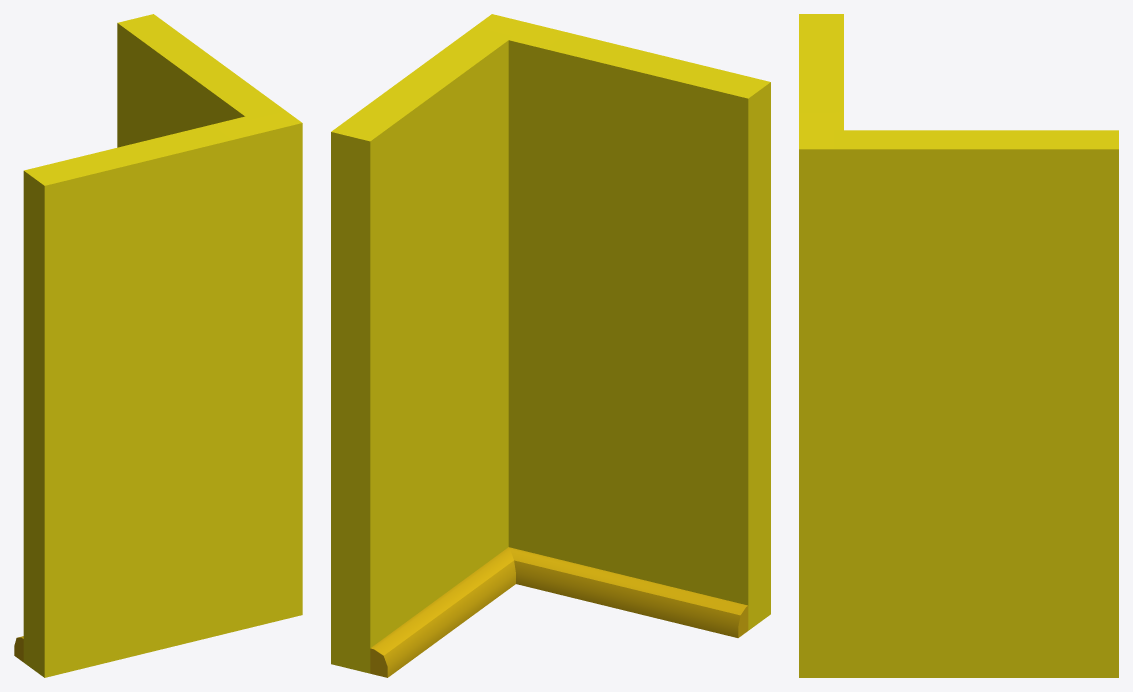
File: Y_WallCorner002.fbx
3 renders of one model, left to right at view 1: azimuth 30°, elevation 25°; view 2: azimuth 150°, elevation 25°; view 3: azimuth 270°, elevation 25°, orthographic. The views are drawn at different scales.
Parts seen in each view (by area): view 1: WallCorner2.002; view 2: WallCorner2.002; view 3: WallCorner2.002.
Part boxes in pixels (x1=…): WallCorner2.002: x1=14, y1=14, x2=302, y2=677; WallCorner2.002: x1=331, y1=14, x2=770, y2=677; WallCorner2.002: x1=799, y1=14, x2=1118, y2=677.
Size of the model in its own units: 137 by 250 by 137.
1 material, 1 textured.
